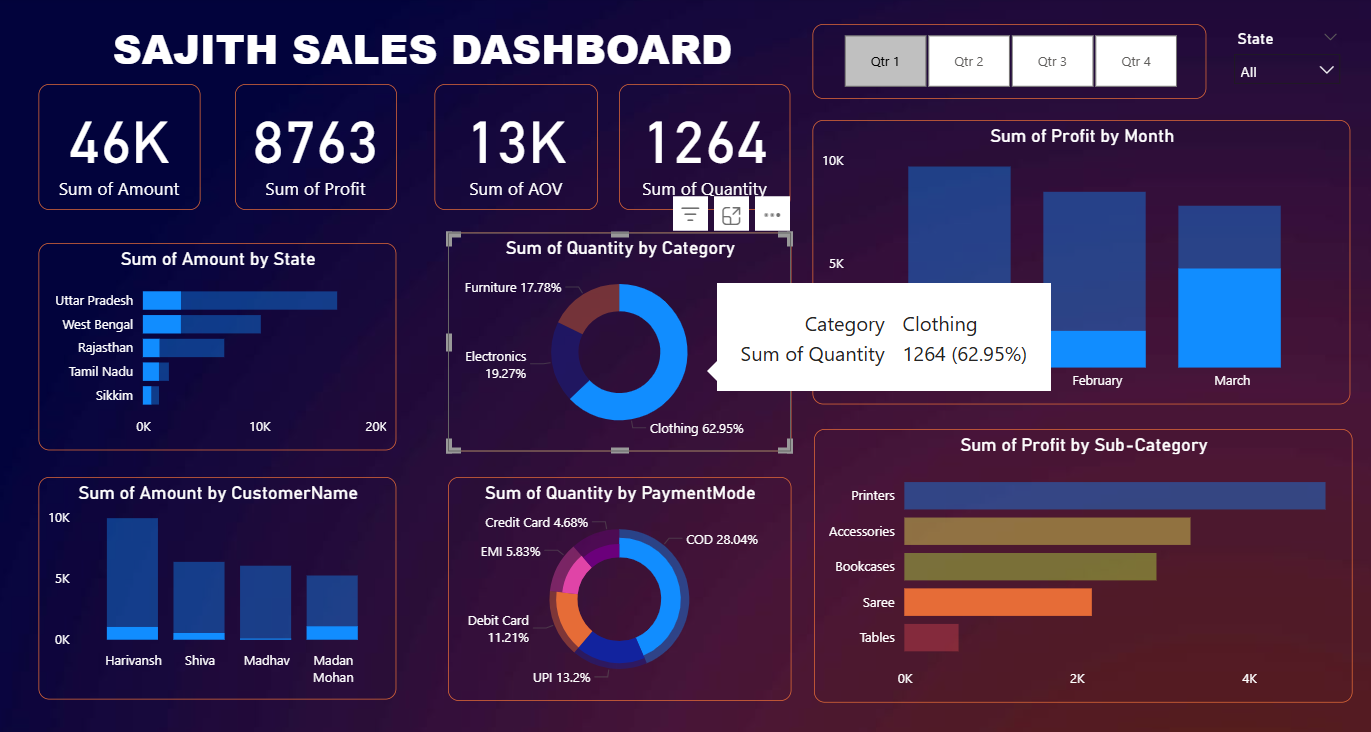

What the dashboard file says about the page in this screenshot:
{"tool":"powerbi","page":{"name":"Page 1","canvas":[1280,720],"ordinal":0},"visuals":[{"type":"clusteredBarChart","fields":{"Y":["Sum(Details.Profit)"],"Category":["Details.Sub-Category"]},"box":[757.8,413.9,498.9,253.2],"z":0},{"type":"donutChart","fields":{"Category":["Details.PaymentMode"],"Y":["Sum(Details.Quantity)"]},"box":[419.4,458.8,318,207.4],"z":1000},{"type":"columnChart","fields":{"Y":["Sum(Details.Profit)"],"Category":["Orders.Order Date.Variation.Date Hierarchy.Month"]},"box":[757.1,127.2,498.2,263.5],"z":2000},{"type":"donutChart","fields":{"Category":["Details.Category"],"Y":["Sum(Details.Quantity)"]},"box":[419.4,231.7,318,202.9],"z":3000},{"type":"columnChart","fields":{"Y":["Sum(Details.Amount)"],"Category":["Orders.CustomerName"]},"box":[40.9,458.8,331.6,205.9],"z":4000},{"type":"barChart","fields":{"Category":["Orders.State"],"Y":["Sum(Details.Amount)"]},"box":[40.9,242.3,331.6,192.3],"z":5000},{"type":"slicer","fields":{"Values":["Orders.Order Date.Variation.Date Hierarchy.Quarter"]},"box":[757.1,39.4,364.9,69.7],"z":6000},{"type":"card","fields":{"Values":["Sum(Details.Amount)"]},"box":[40.9,93.9,149.9,116.6],"z":7000},{"type":"card","fields":{"Values":["Sum(Details.Quantity)"]},"box":[578.4,93.9,159,116.6],"z":8000},{"type":"card","fields":{"Values":["Sum(Details.Profit)"]},"box":[222.6,93.9,149.9,116.6],"z":9000},{"type":"card","fields":{"Values":["Sum(Details.AOV)"]},"box":[407.3,93.9,151.4,116.6],"z":10000},{"type":"textbox","box":[92.4,28.8,605.7,65.1],"z":11000},{"type":"slicer","fields":{"Values":["Orders.State"]},"box":[1137.2,39.4,118.1,69.7],"z":12000}]}

Visuals, with their boxes on the page's 1280x720 design canvas (x1, y1, x2, y2). These are canvas units, not pixel positions in the 1371x732 screenshot, which may show the page scaled, cropped or inside an application window:
clusteredBarChart - Sum(Details.Profit) x Details.Sub-Category: select_region(758, 414, 1257, 667)
donutChart - Details.PaymentMode x Sum(Details.Quantity): select_region(419, 459, 737, 666)
columnChart - Sum(Details.Profit) x Orders.Order Date.Variation.Date Hierarchy.Month: select_region(757, 127, 1255, 391)
donutChart - Details.Category x Sum(Details.Quantity): select_region(419, 232, 737, 435)
columnChart - Sum(Details.Amount) x Orders.CustomerName: select_region(41, 459, 372, 665)
barChart - Orders.State x Sum(Details.Amount): select_region(41, 242, 372, 435)
slicer - Orders.Order Date.Variation.Date Hierarchy.Quarter: select_region(757, 39, 1122, 109)
card - Sum(Details.Amount): select_region(41, 94, 191, 210)
card - Sum(Details.Quantity): select_region(578, 94, 737, 210)
card - Sum(Details.Profit): select_region(223, 94, 372, 210)
card - Sum(Details.AOV): select_region(407, 94, 559, 210)
textbox: select_region(92, 29, 698, 94)
slicer - Orders.State: select_region(1137, 39, 1255, 109)
